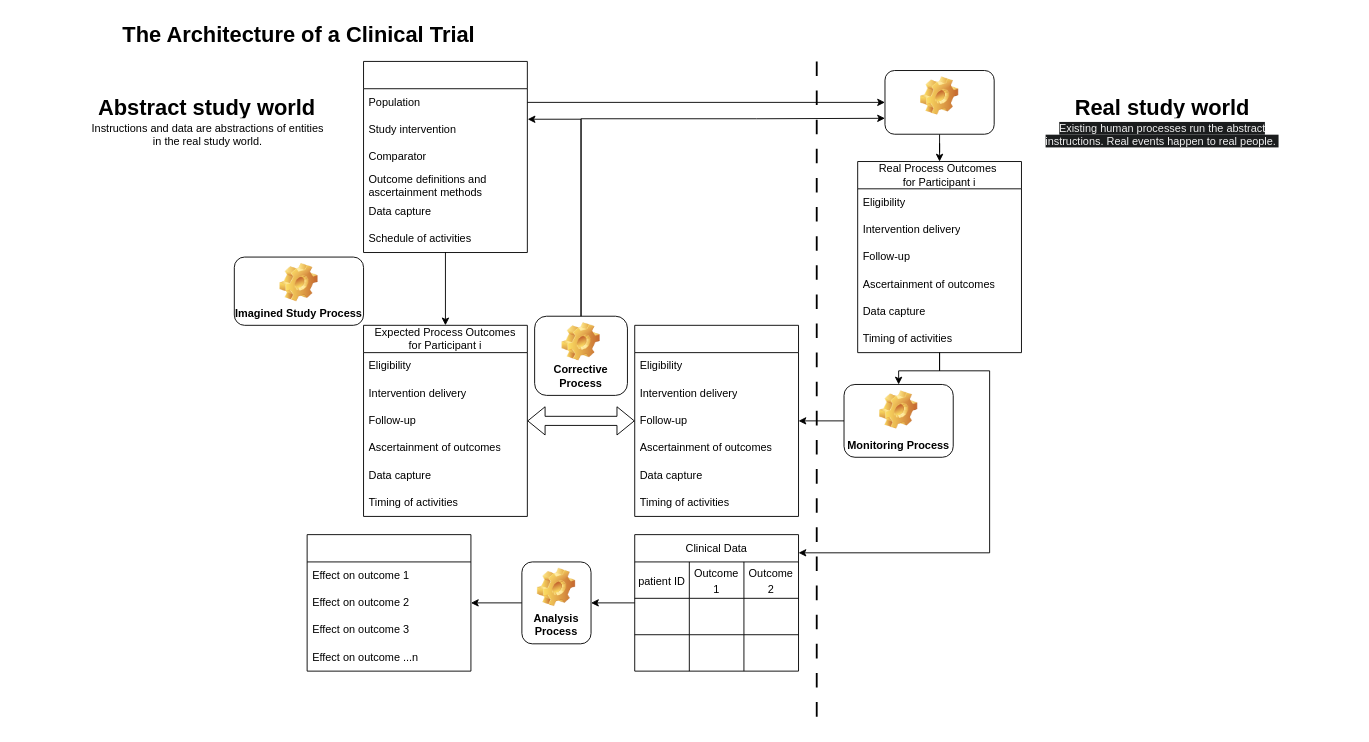
Some shapes in this 1369 by 742 pixel diagram are drawn without their labels. The shapes that lost their labels are listed below. From the top down, each one's box as (x1, y1, x2, y2) in pixels, then its label:
(884, 70, 994, 134): Real Study Process
(363, 61, 527, 253): Study Instructions
(634, 324, 799, 516): Observed Process Outcomes for Participant i
(306, 534, 471, 671): Estimates of the effects of treatment vs control
